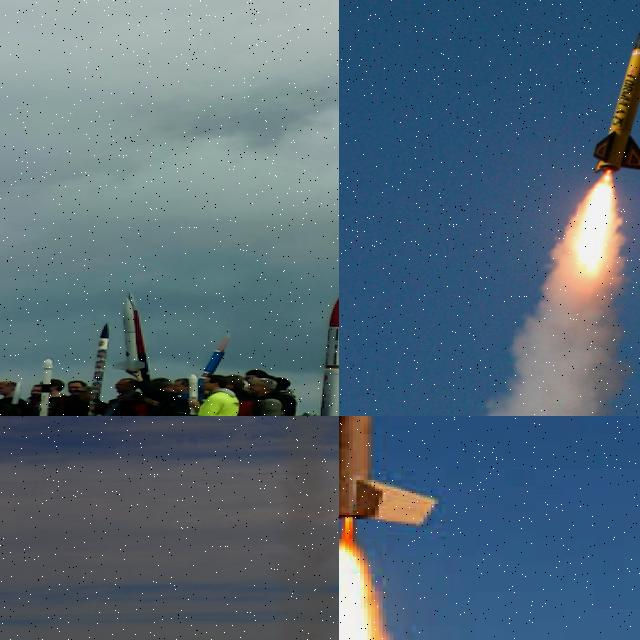Rocket: (339, 416, 447, 533), (591, 0, 640, 175), (293, 292, 339, 416), (182, 332, 234, 402), (112, 296, 147, 371), (84, 322, 111, 416), (132, 310, 154, 389), (37, 357, 54, 416), (4, 381, 22, 416), (188, 372, 202, 416)
